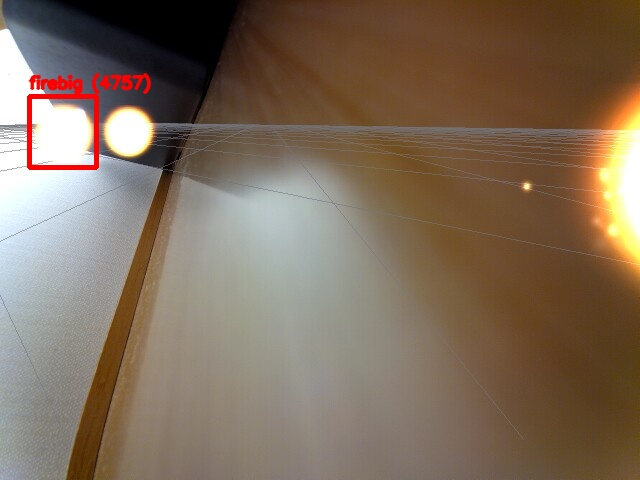firebig: (29, 96, 96, 167)
